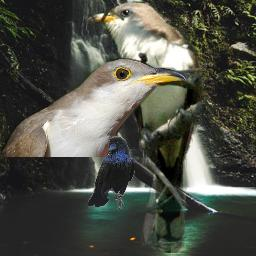Crow: (88, 136, 135, 209)
Cuckoo: (85, 1, 207, 253), (2, 58, 186, 157)
